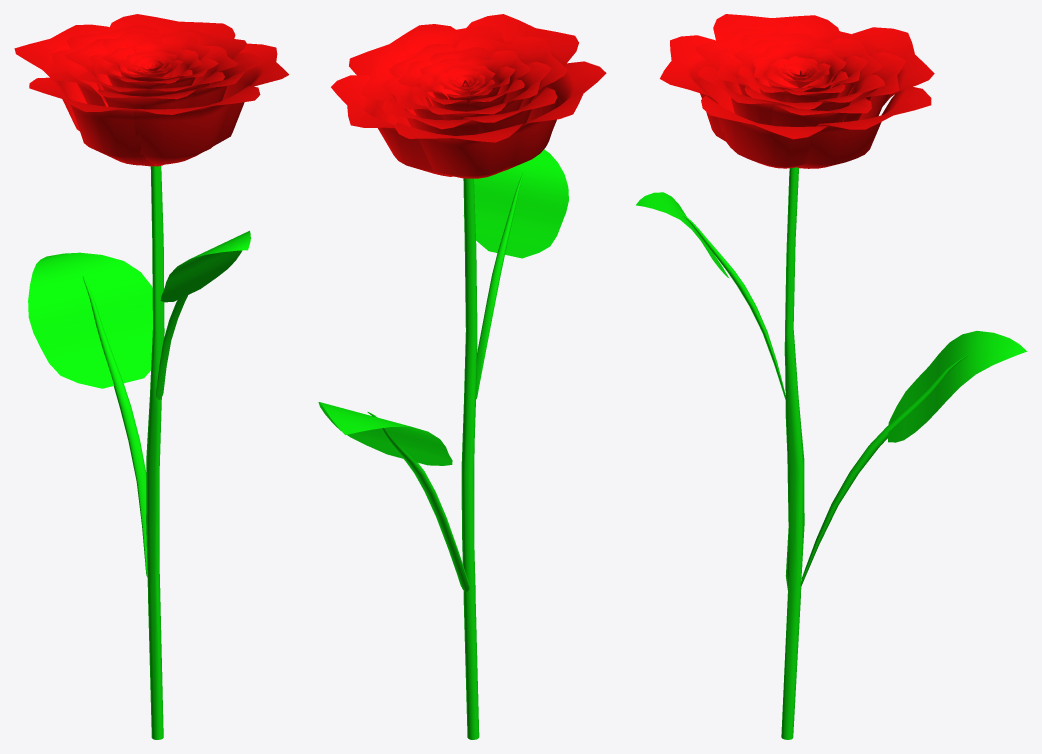
Rendered from Rose.fbx.
The picture shows the model from 3 angles, left to right: view 1: azimuth 30°, elevation 25°; view 2: azimuth 150°, elevation 25°; view 3: azimuth 270°, elevation 25°; orthographic projection.
Visible parts, largest first — view 1: Head, Stem; view 2: Head, Stem; view 3: Head, Stem.
Boxes of the visible parts, x1,y1,x2,y2 form: Head: (14, 14, 288, 166); Stem: (28, 166, 250, 739); Head: (331, 14, 606, 178); Stem: (318, 149, 568, 739); Head: (660, 14, 934, 168); Stem: (636, 167, 1026, 739).
Bounding box in the file's own units: 9.22 × 25.31 × 13.26.
